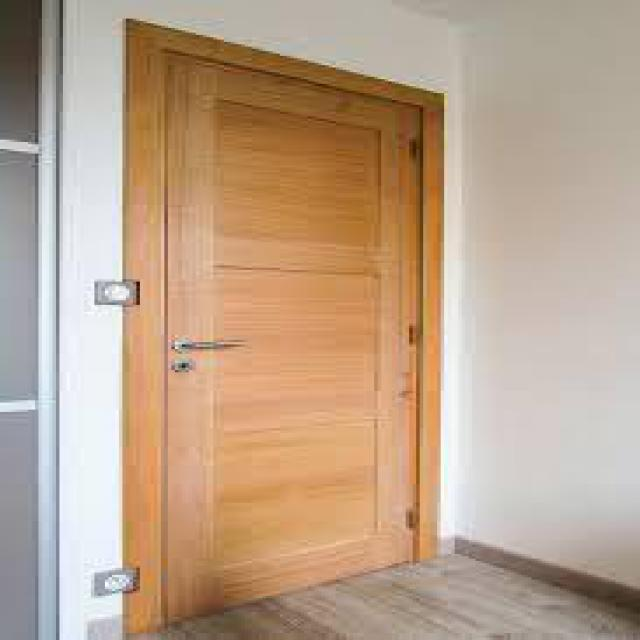close: (116, 9, 472, 638)
